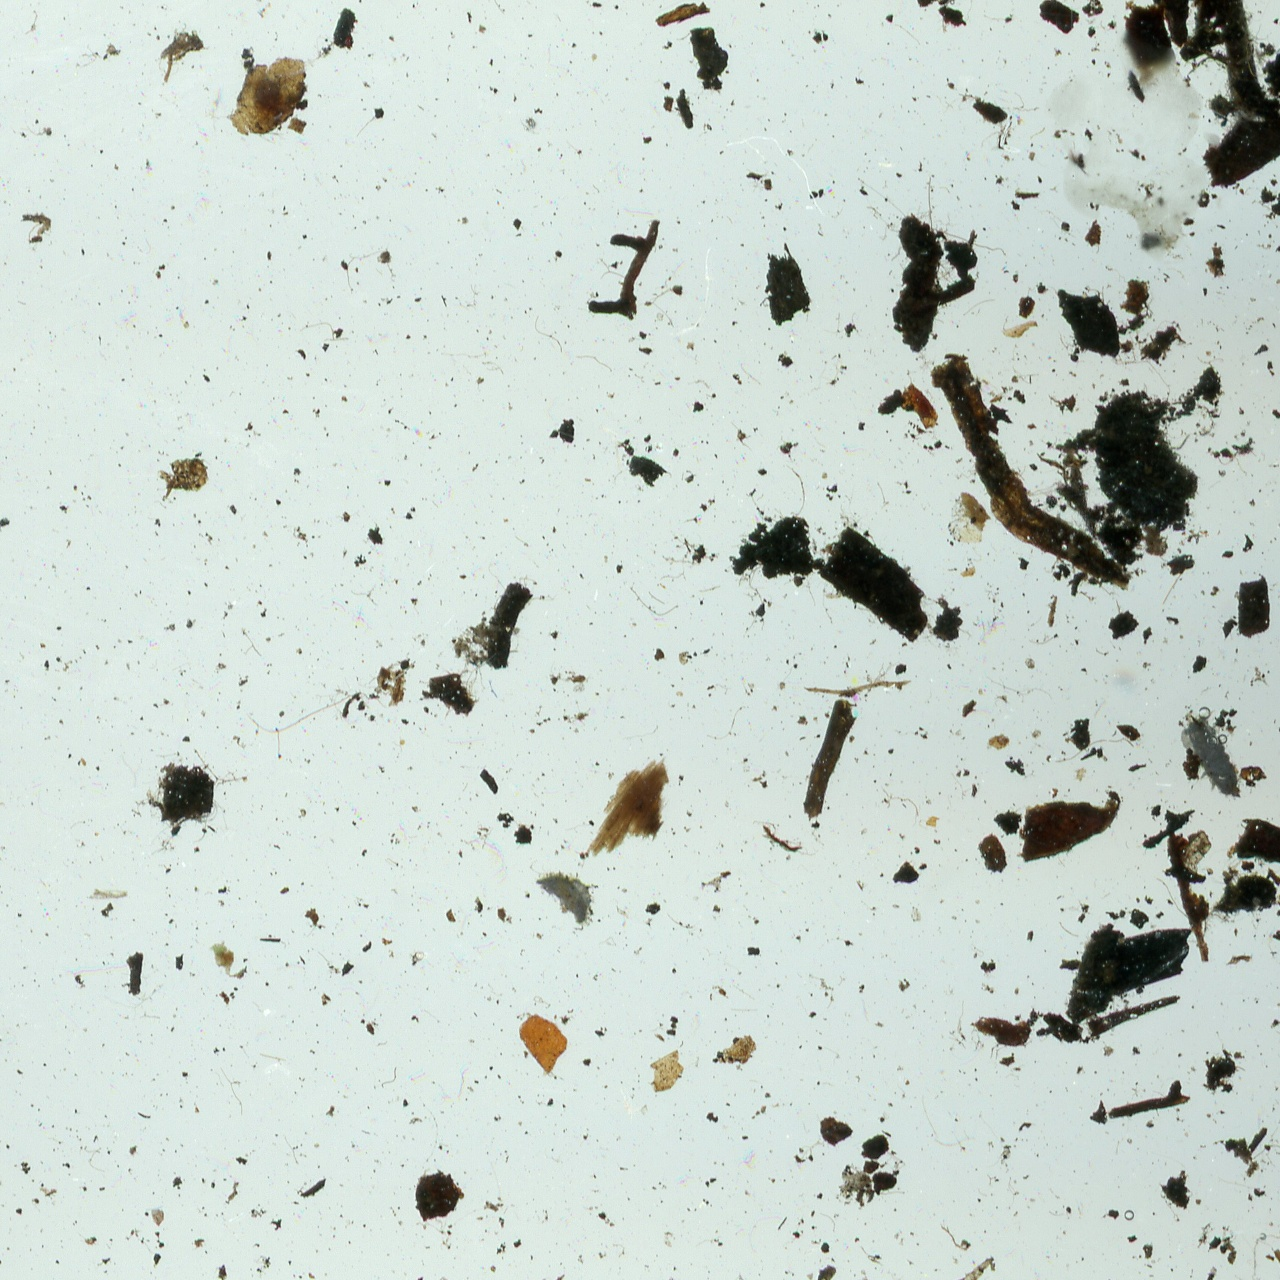arthropod: (530, 870, 599, 934)
